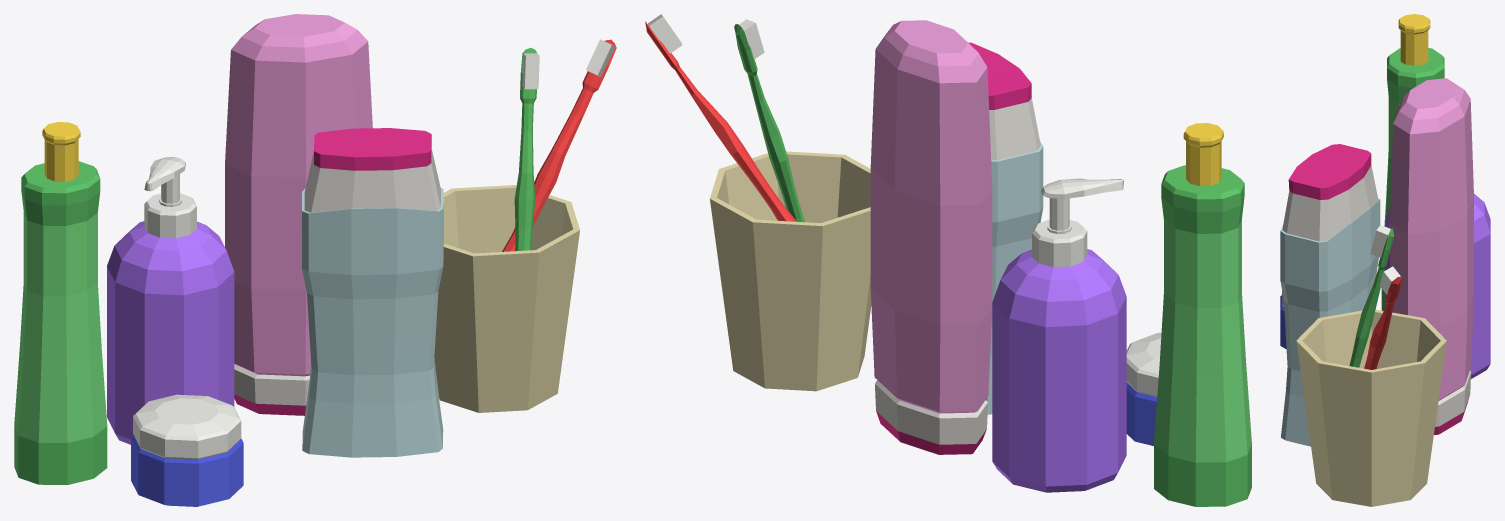
File: wash_products_0518.fbx
3 renders of one model, left to right at view 1: azimuth 30°, elevation 25°; view 2: azimuth 150°, elevation 25°; view 3: azimuth 270°, elevation 25°, orthographic. The views are drawn at different scales.
Visible parts, largest first — view 1: Cylinder007; view 2: Cylinder007; view 3: Cylinder007.
Boxes of the visible parts, x1=… form: Cylinder007: x1=14, y1=14, x2=616, y2=506; Cylinder007: x1=645, y1=14, x2=1251, y2=506; Cylinder007: x1=1280, y1=14, x2=1490, y2=506.
Size of the model in its own units: 183 by 112 by 66.4.
1 material, 1 textured.
